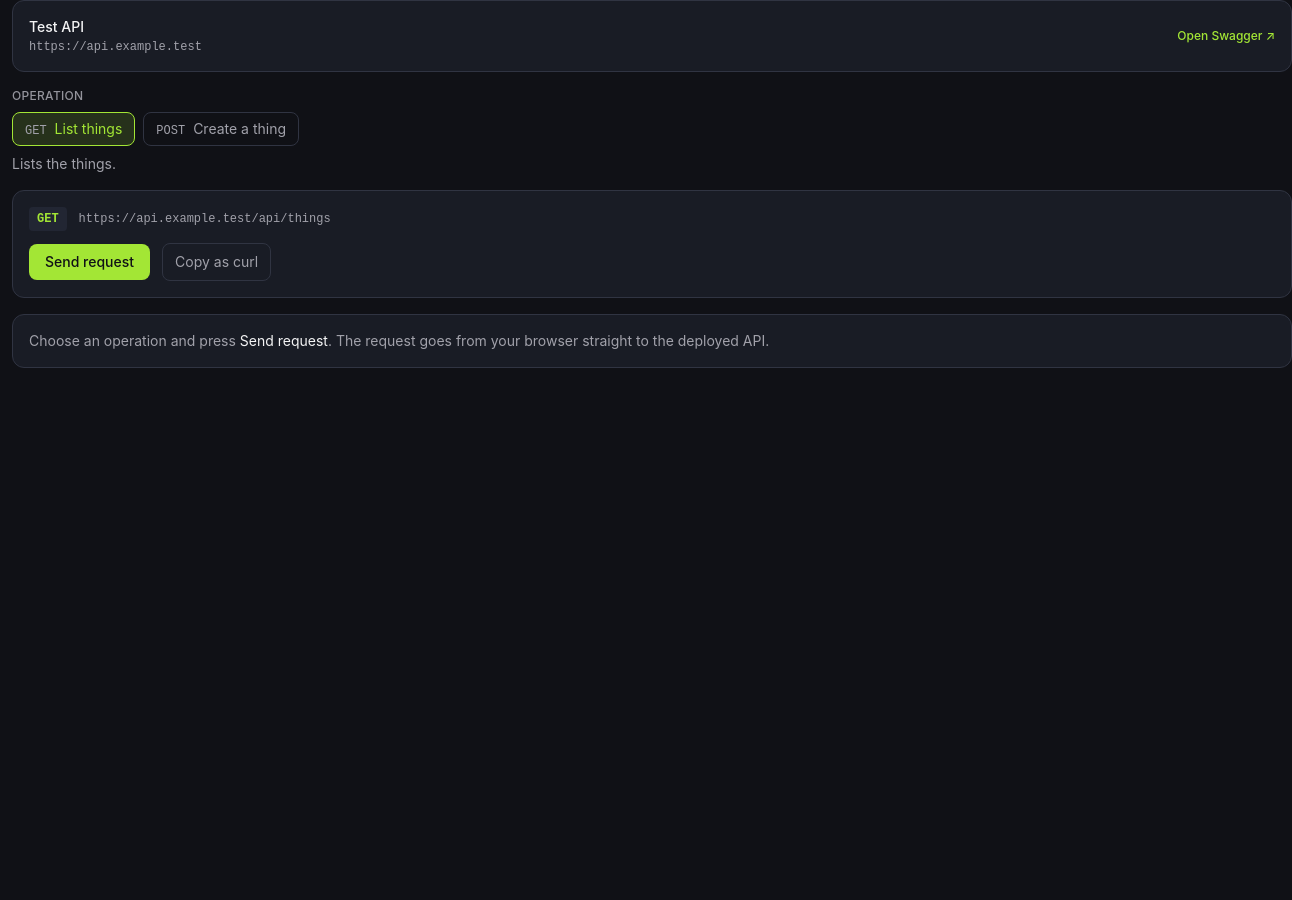
Test: ApiTester › sends a request to the service and shows the response
Click the button "Send request".
click(90, 262)  # box [29, 244, 150, 280]
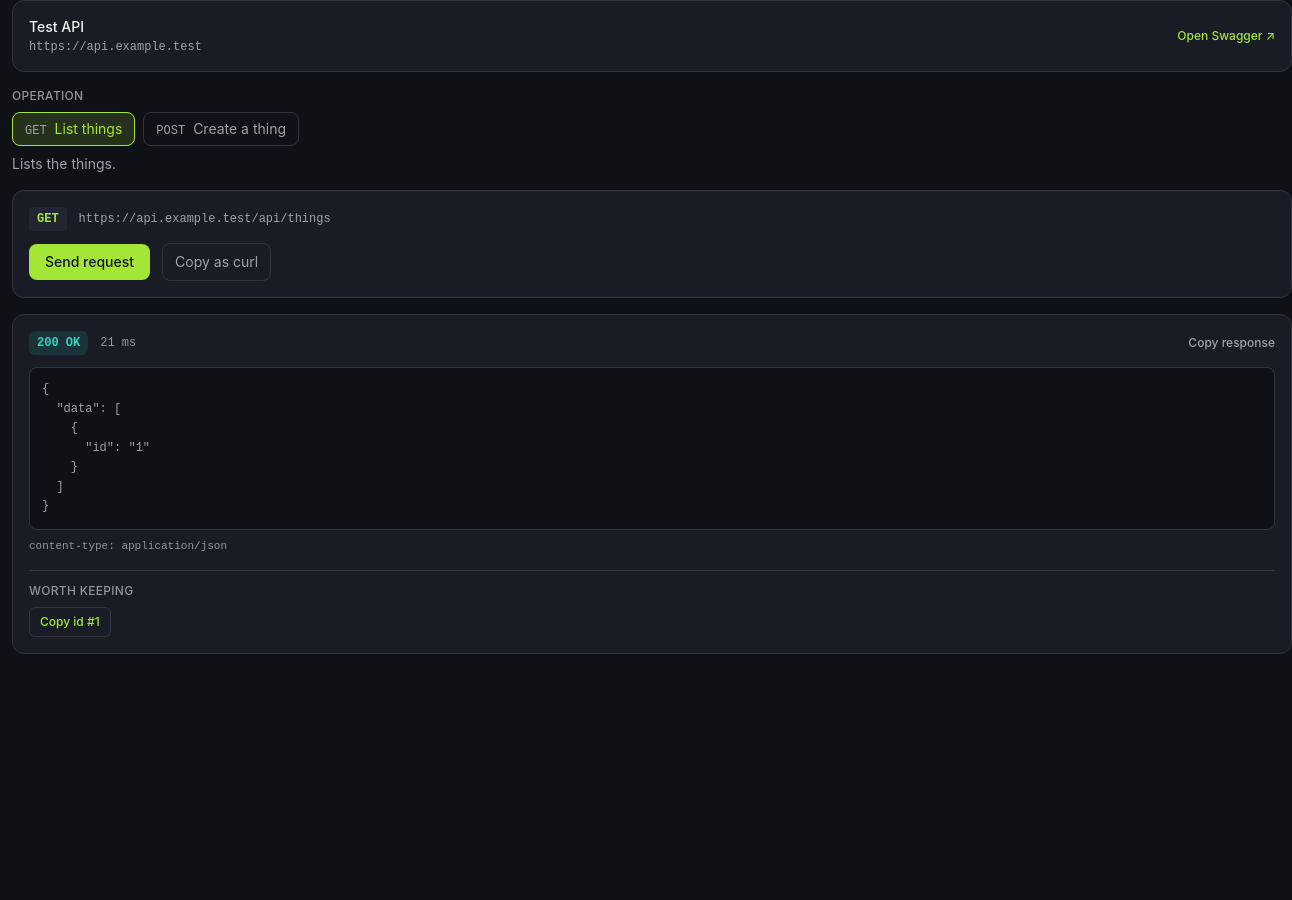
Now the text "200 OK" is shown, box [29, 331, 88, 355]
Now the text "{ \"data\": [ { \"id\": \"1\" } ] }" is shown, box [29, 367, 1275, 530]
